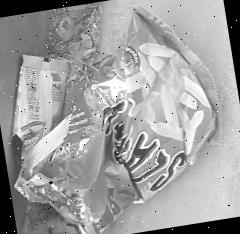general: (13, 5, 224, 234), (0, 47, 81, 167)
